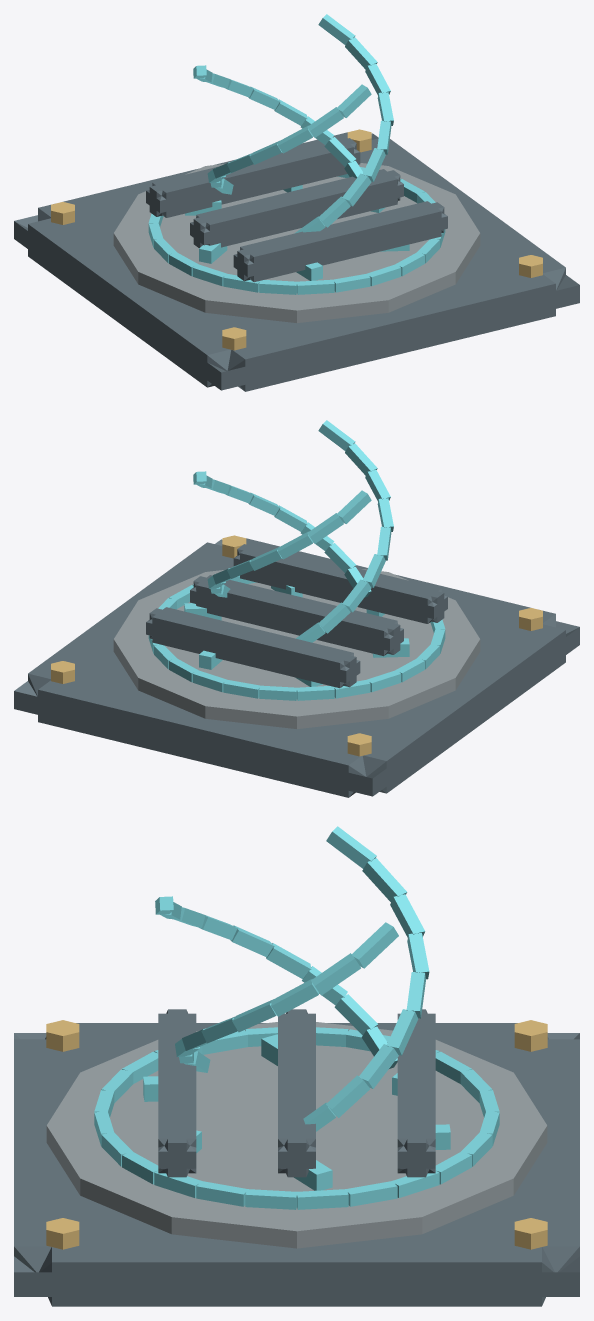
File: TrapUpdraft.fbx
The picture shows the model from 3 angles, top to bottom: view 1: azimuth 30°, elevation 25°; view 2: azimuth 150°, elevation 25°; view 3: azimuth 270°, elevation 25°; orthographic projection. The views are drawn at different scales.
Visible parts, largest first — view 1: TrapUpdraft.002; view 2: TrapUpdraft.002; view 3: TrapUpdraft.002.
Part boxes in pixels (x1,y1,x2,y2): TrapUpdraft.002: (14, 14, 579, 391); TrapUpdraft.002: (14, 420, 579, 797); TrapUpdraft.002: (14, 826, 579, 1306).
Size of the model in its own units: 1.04 by 0.6159 by 1.04.
